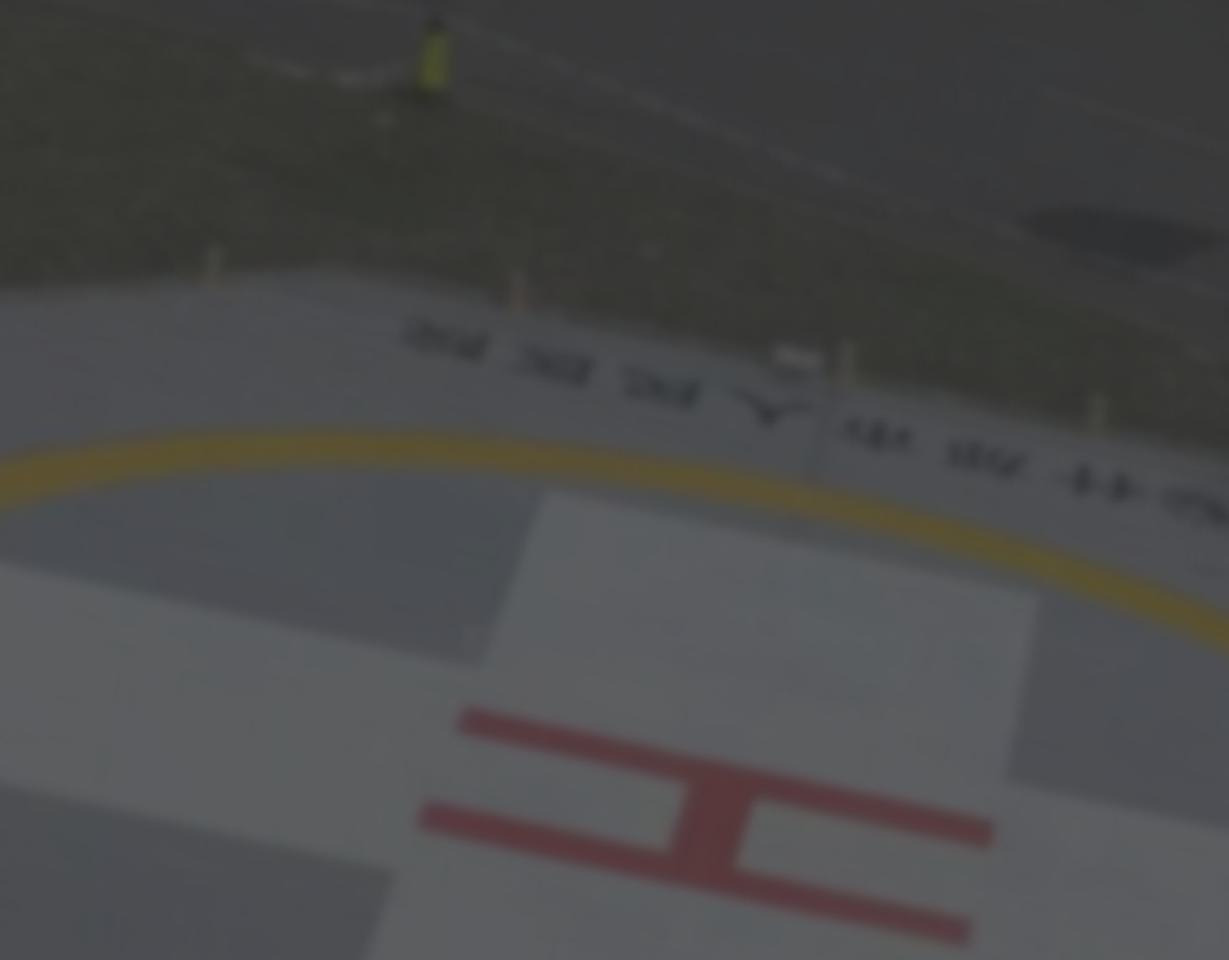Apron: (6, 396, 1229, 960)
